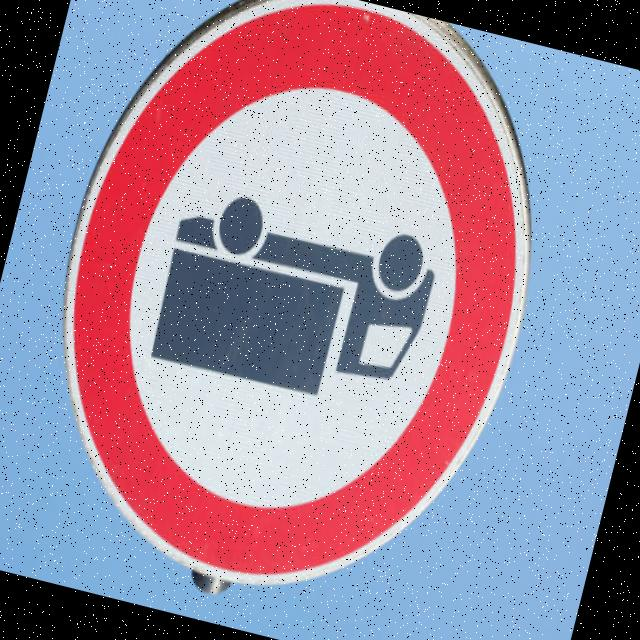do_not_enter: (0, 0, 596, 640)
